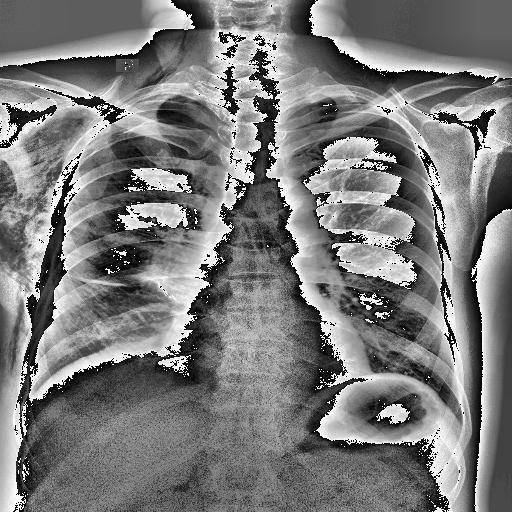0- Aortic enlargement: (260, 178, 316, 234)
13- Pulmonary fibrosis: (60, 269, 128, 288), (65, 271, 130, 287), (68, 272, 128, 286), (122, 116, 164, 134)
9- Other lesion: (2, 120, 220, 380), (0, 98, 90, 384), (0, 103, 84, 395), (112, 4, 206, 108), (140, 2, 198, 88), (150, 285, 176, 301)
